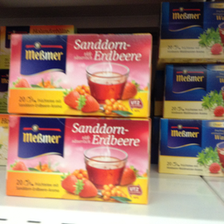tea: (6, 113, 151, 204), (7, 32, 152, 119), (157, 118, 224, 178), (158, 2, 223, 59), (161, 65, 224, 118)
